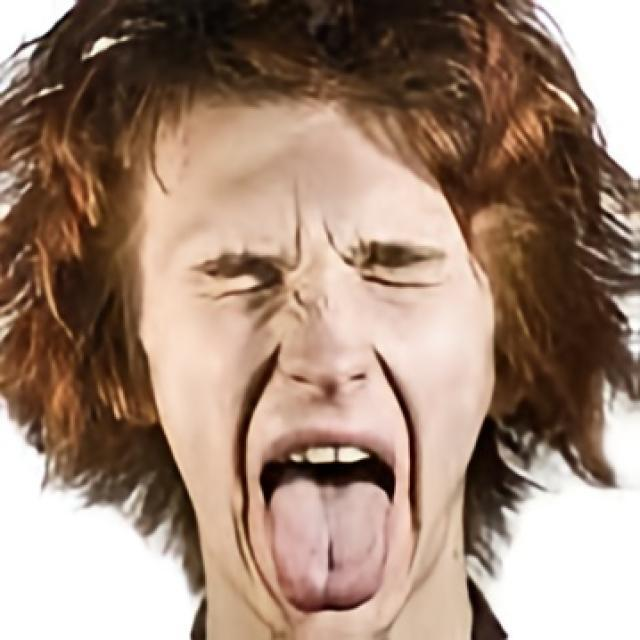disgust: (130, 80, 499, 640)
